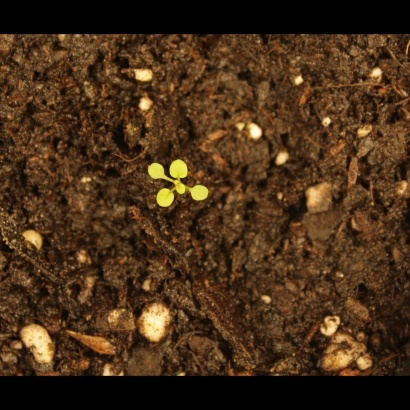leaf: (189, 180, 222, 210), (166, 149, 193, 184), (147, 187, 179, 215), (146, 161, 169, 184), (170, 178, 193, 201)
